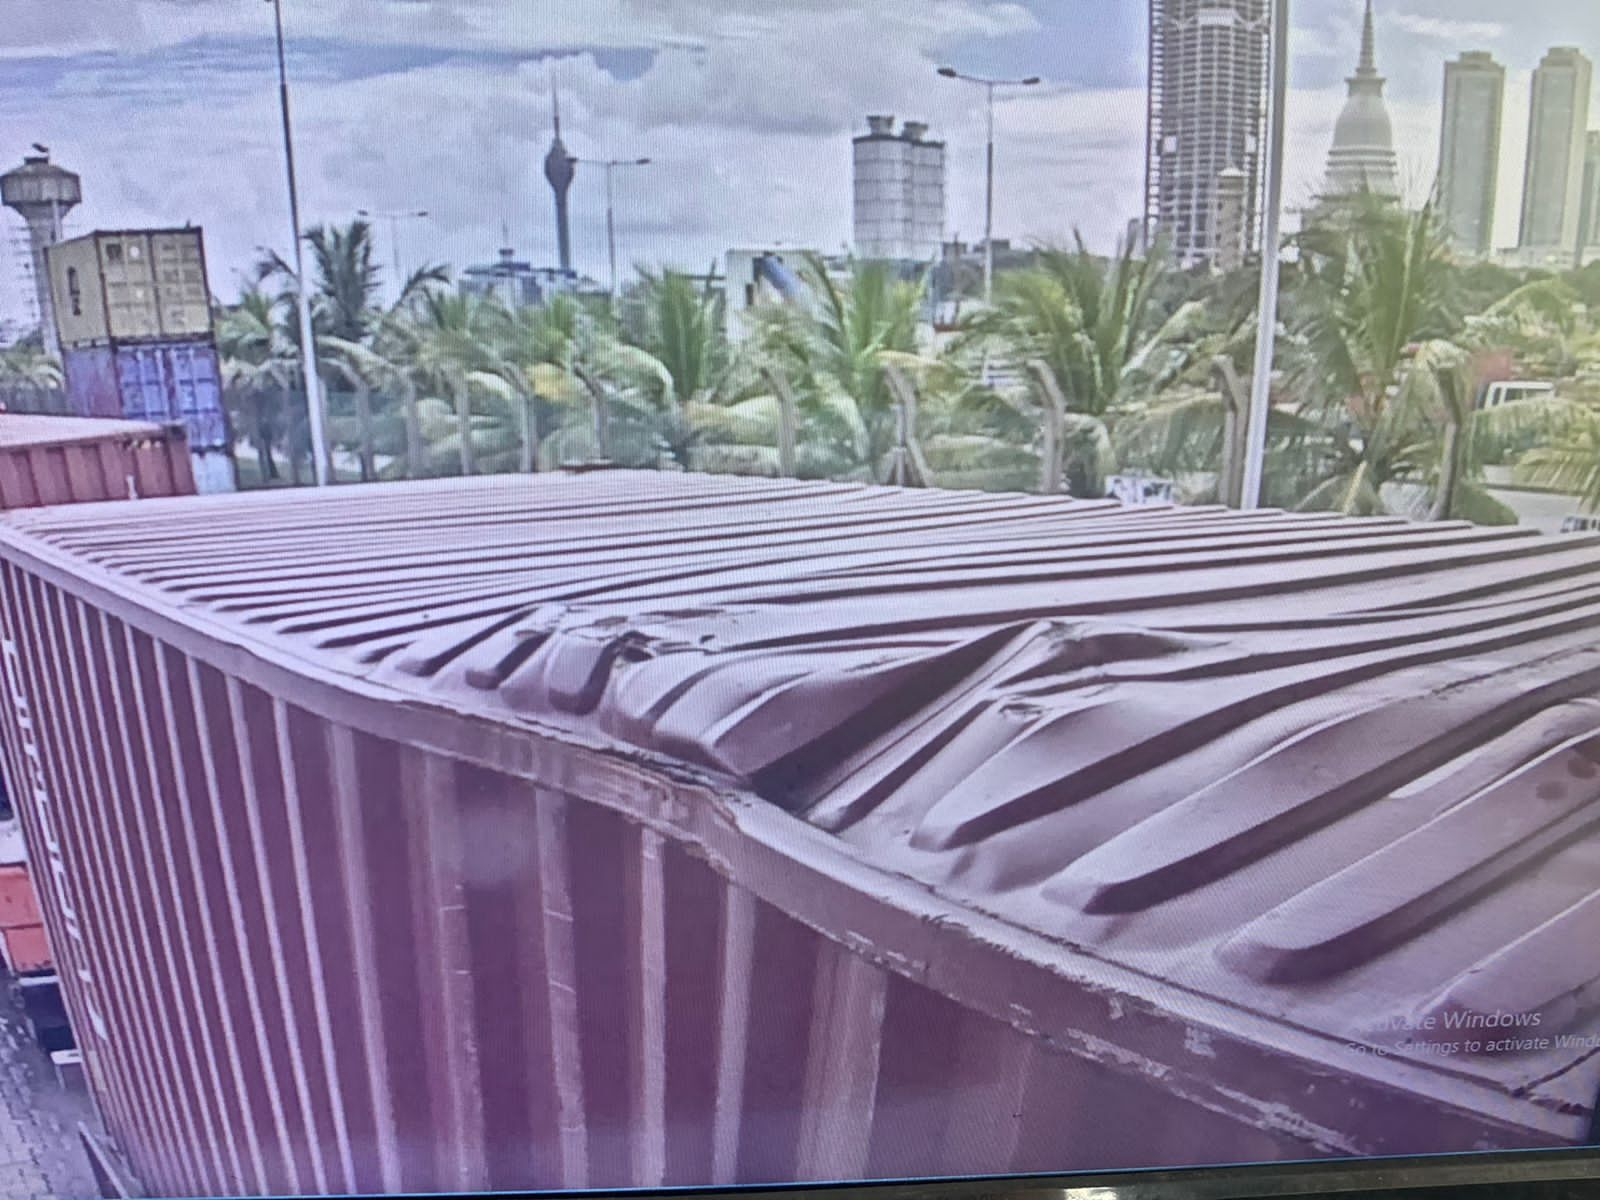bulged: (750, 579, 1266, 821), (433, 574, 695, 713)
